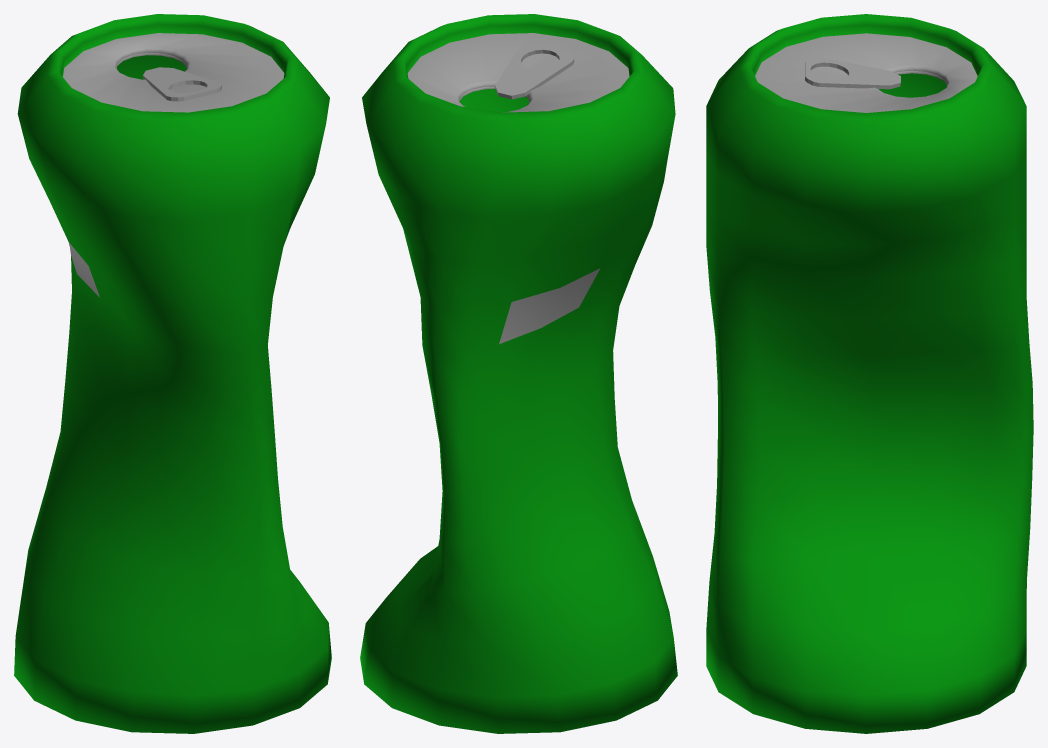
Rendered from green_can.fbx.
The picture shows the model from 3 angles, left to right: view 1: azimuth 30°, elevation 25°; view 2: azimuth 150°, elevation 25°; view 3: azimuth 270°, elevation 25°; orthographic projection.
Parts seen in each view (by area): view 1: Cylinder.006; view 2: Cylinder.006; view 3: Cylinder.006.
Boxes of the visible parts, x1,y1,x2,y2 form: Cylinder.006: (14,14,331,733); Cylinder.006: (360,14,677,733); Cylinder.006: (706,14,1033,733).
Size of the model in its own units: 63.36 by 132 by 64.77.
